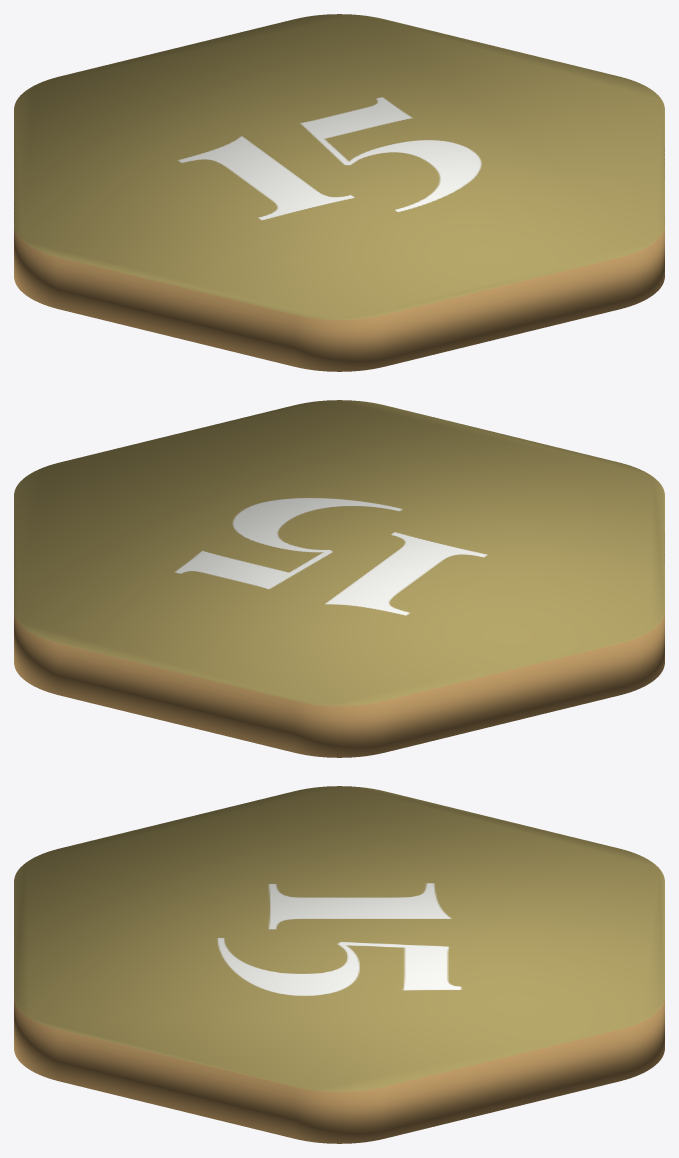
Rendered from hex_15.glb.
3 views of the same model, one above another, from view 1: azimuth 30°, elevation 25°; view 2: azimuth 150°, elevation 25°; view 3: azimuth 270°, elevation 25° (orthographic).
Visible parts, largest first — view 1: hex_15; view 2: hex_15; view 3: hex_15.
Boxes of the visible parts, left/top/right/bottom form: hex_15: left=14, top=14, right=664, bottom=371; hex_15: left=14, top=400, right=664, bottom=757; hex_15: left=14, top=786, right=664, bottom=1143.
Size of the model in its own units: 0.0304 by 0.0024 by 0.0273.
Materials: 2 (1 with a texture image).
